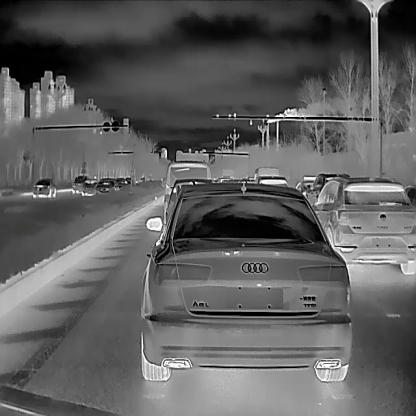car: (139, 183, 350, 382), (311, 176, 415, 272), (162, 161, 210, 220), (302, 171, 349, 207), (252, 174, 286, 198), (30, 179, 56, 199), (252, 167, 280, 182), (96, 177, 116, 197), (82, 179, 98, 196), (72, 176, 85, 193)
